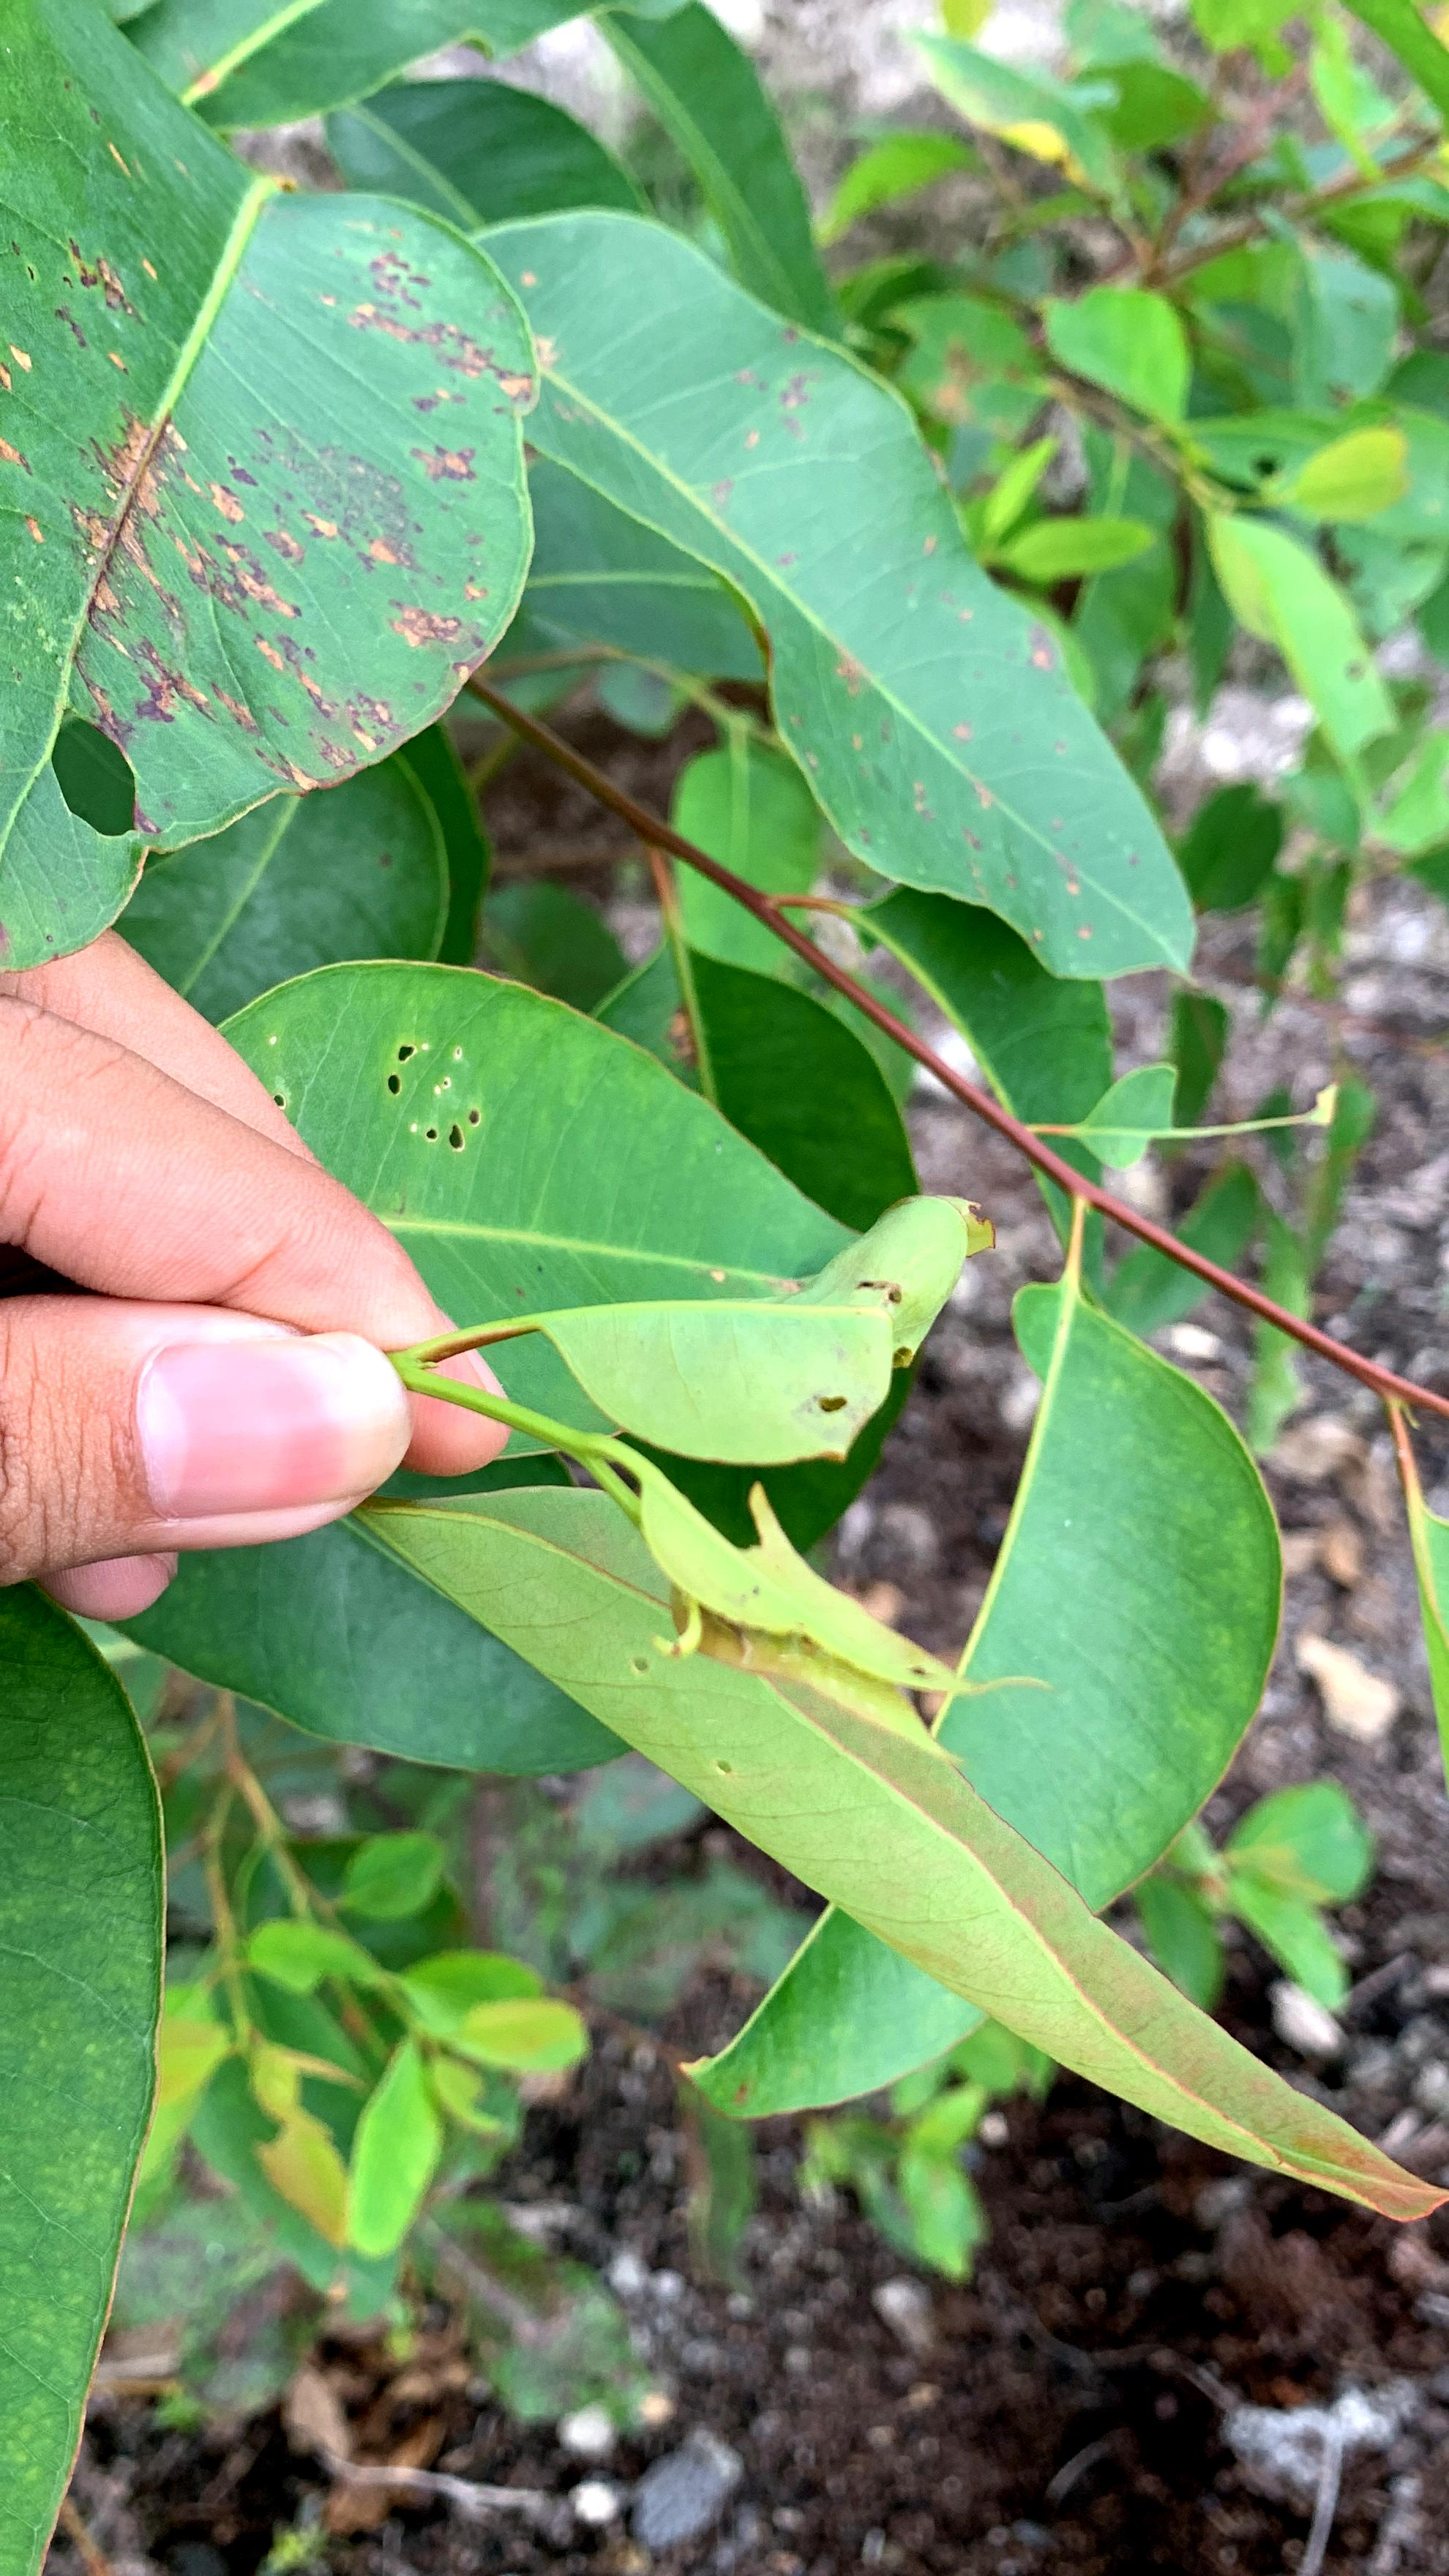Leaf Roller - Leaf: (471, 1172, 1033, 1793)
